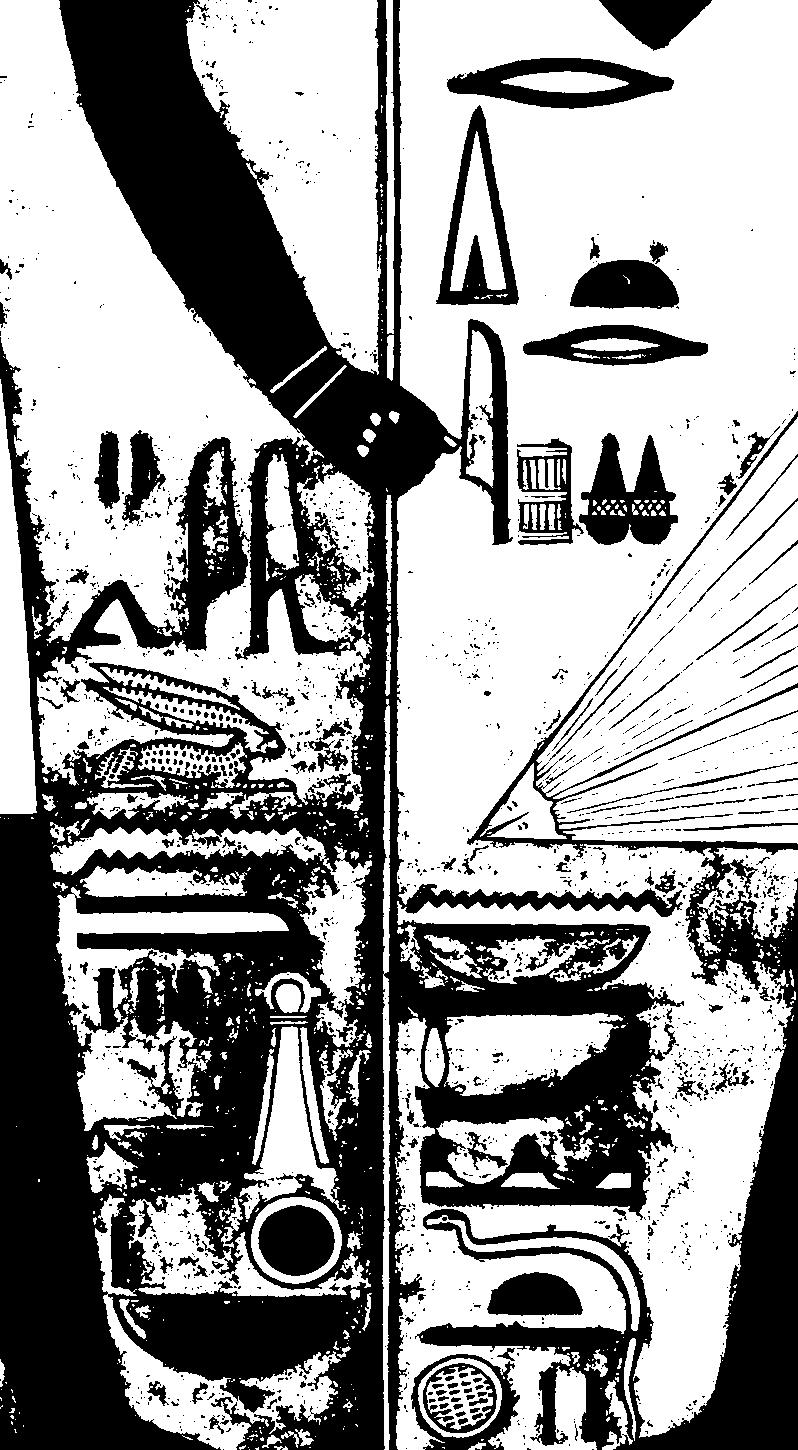Mouth: (439, 56, 681, 112), (521, 319, 712, 371)
Reed: (179, 431, 247, 656), (456, 317, 517, 552)
Water: (406, 877, 679, 924)
